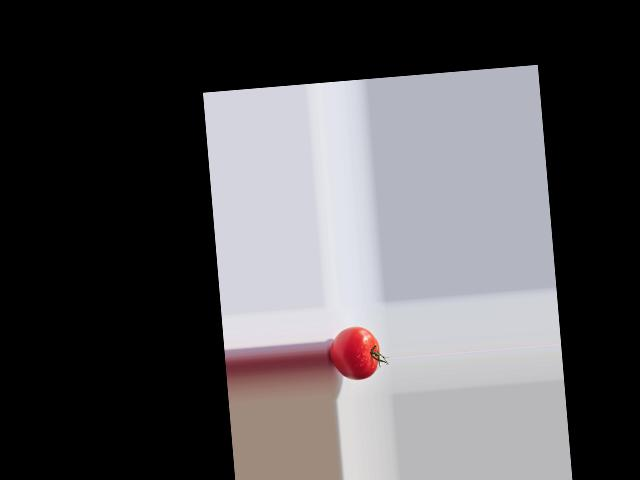tomato: (327, 324, 380, 381)
